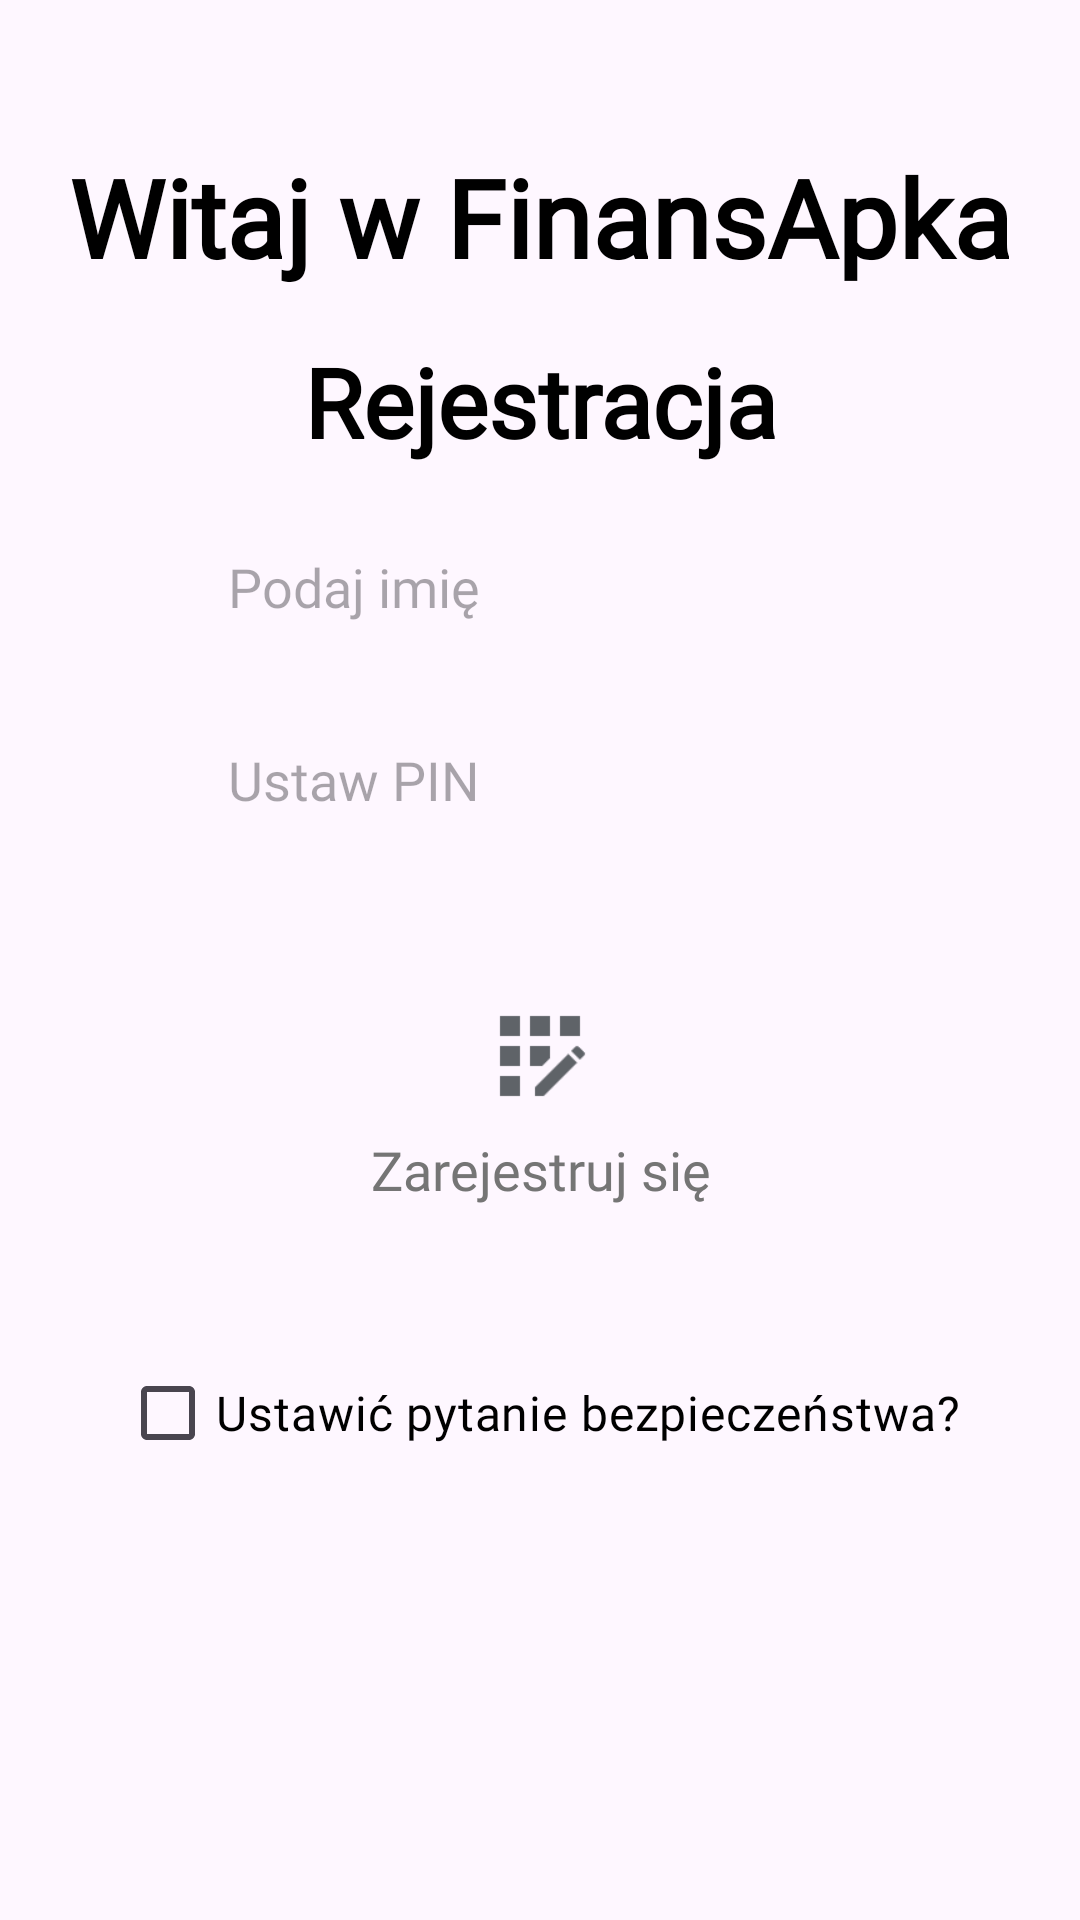

Point at icon controls on the screen. Image size 1080 x 1920, points as (x,y).
Ikona rejestracji: (542,1056)
